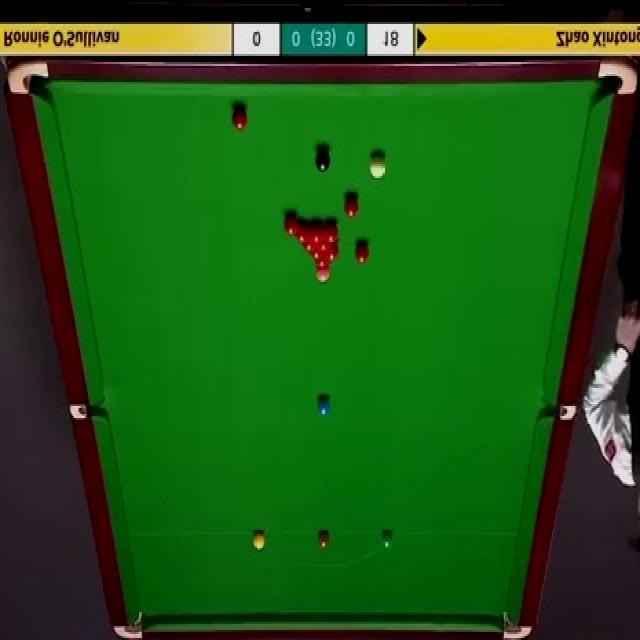black-ball: (314, 146, 331, 171)
blue-ball: (316, 394, 331, 418)
brown-ball: (318, 529, 330, 549)
green-ball: (379, 528, 395, 549)
pink-ball: (318, 268, 332, 279)
red-ball: (323, 220, 339, 243), (232, 108, 248, 130), (355, 240, 370, 261), (345, 196, 359, 218), (292, 220, 306, 240), (310, 222, 323, 243), (302, 231, 316, 249), (284, 214, 297, 233), (329, 242, 342, 260), (317, 239, 331, 254), (310, 245, 324, 260), (318, 253, 330, 269)
white-ball: (369, 156, 387, 181)
yellow-ball: (252, 530, 265, 550)
